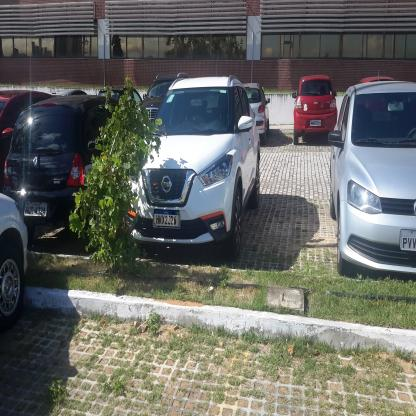PlacaM: (154, 209, 179, 228)
